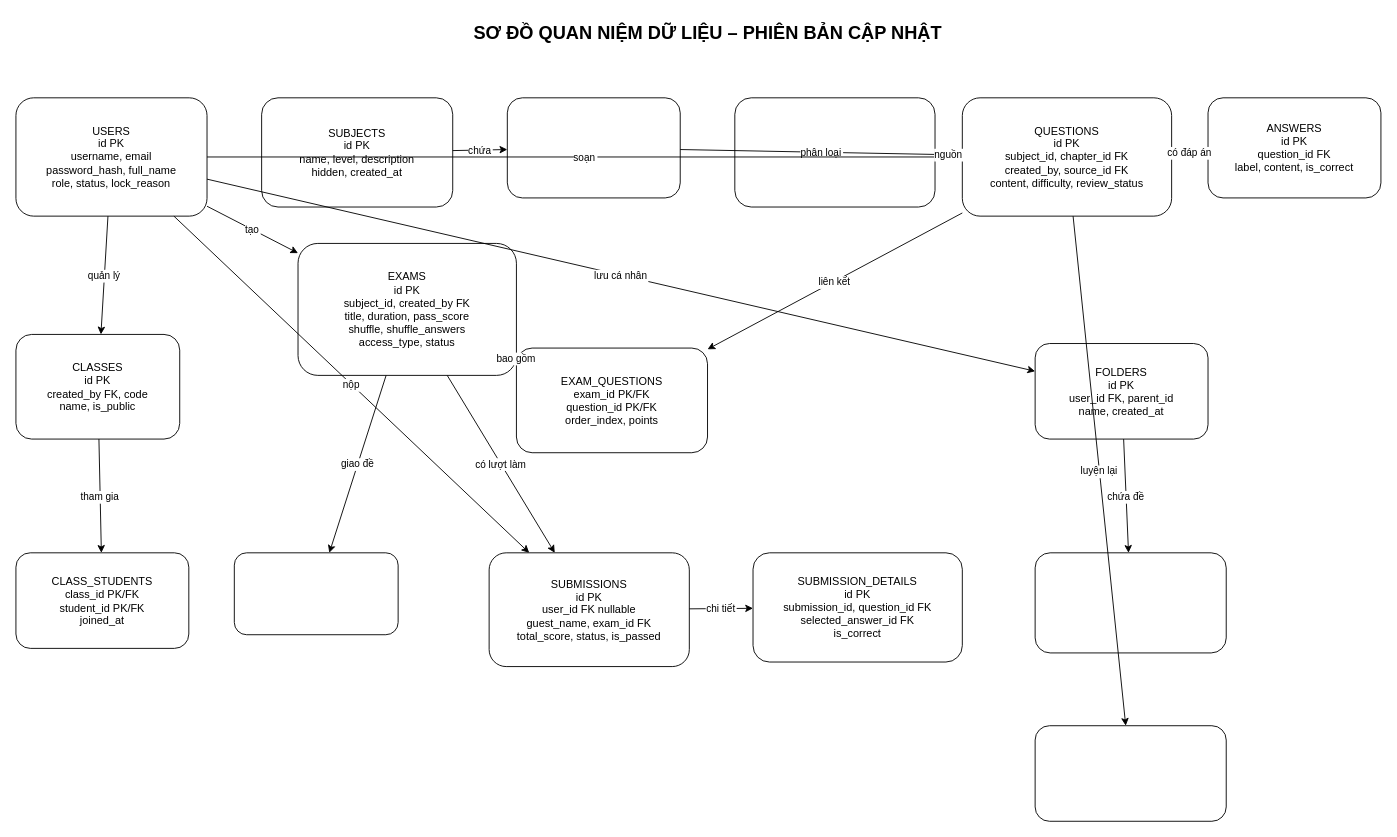
This 1397x837 diagram has some shape labels left out. Here are the shapes that lost their labels. From the top down, the centre of each, then its label:
At point (593, 147): "CHAPTERS id PK subject_id FK name, order_index".
At point (834, 152): "SOURCES id PK title, publisher, url license_note, verification_status".
At point (315, 593): "EXAM_CLASSES exam_id PK/FK class_id PK/FK".
At point (1130, 602): "FOLDER_EXAMS id PK user_id, folder_id FK exam_id FK, note".
At point (1130, 773): "PRACTICE_ANSWERS id PK user_id, question_id FK is_correct, created_at".
